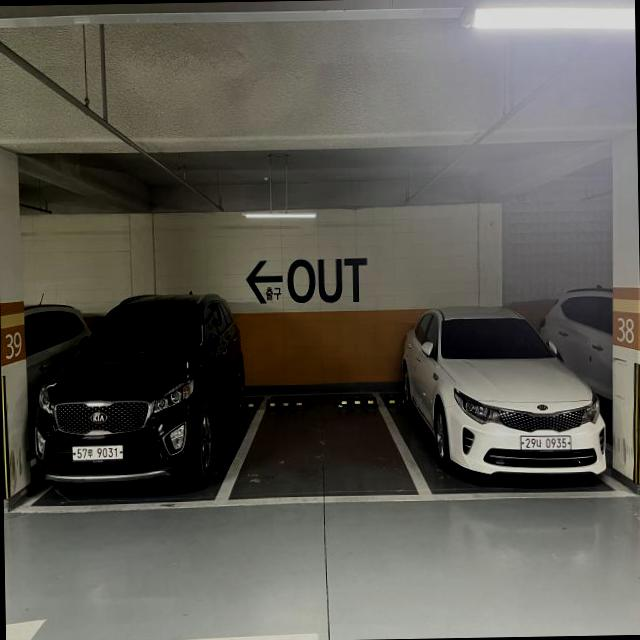car: (26, 278, 229, 522), (398, 295, 617, 511)
free: (229, 382, 402, 518)
